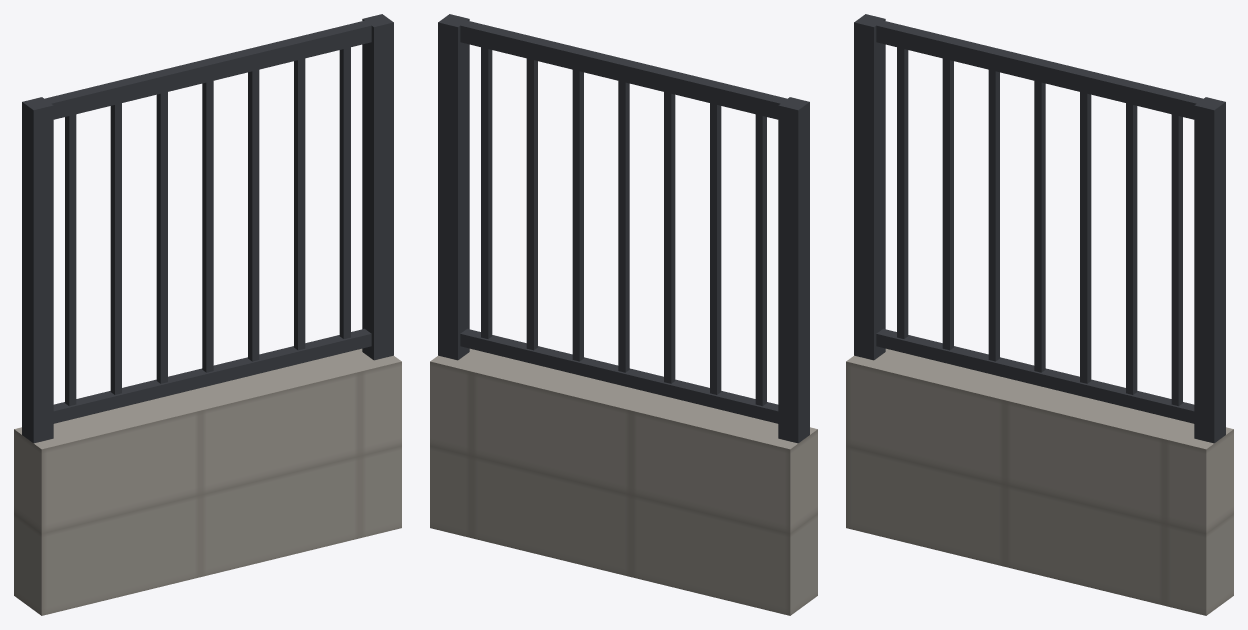
The model's file is SM_Lot_GapFence_BlockAlu_905_01.fbx.
3 views of the same model, side by side, from view 1: azimuth 30°, elevation 25°; view 2: azimuth 150°, elevation 25°; view 3: azimuth 330°, elevation 25° (orthographic).
Visible parts, largest first — view 1: SM_Lot_GapFence_BlockAlu_905_01; view 2: SM_Lot_GapFence_BlockAlu_905_01; view 3: SM_Lot_GapFence_BlockAlu_905_01.
Boxes of the visible parts, box(x1,y1,x2,y2) form: SM_Lot_GapFence_BlockAlu_905_01: box(14, 14, 401, 615); SM_Lot_GapFence_BlockAlu_905_01: box(430, 14, 817, 615); SM_Lot_GapFence_BlockAlu_905_01: box(846, 14, 1233, 615).
Bounding box in the file's own units: 0.905 × 1.2 × 0.12.
1 material, 1 textured.
